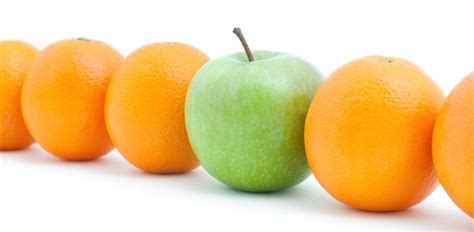apple: (181, 46, 322, 194)
orange: (301, 48, 446, 217), (102, 39, 213, 179), (18, 37, 124, 166)
